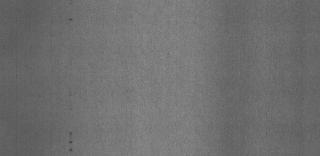oil spot: (66, 131, 74, 153), (69, 91, 75, 114), (68, 16, 74, 24)
